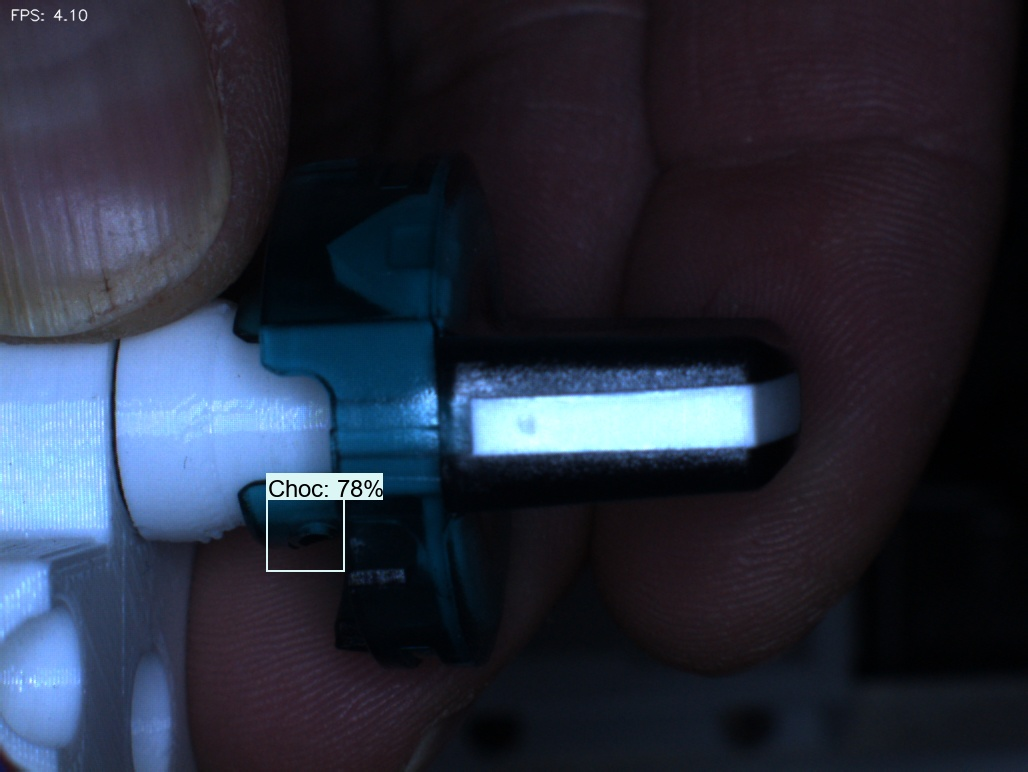DentOk: (298, 204, 376, 306)
